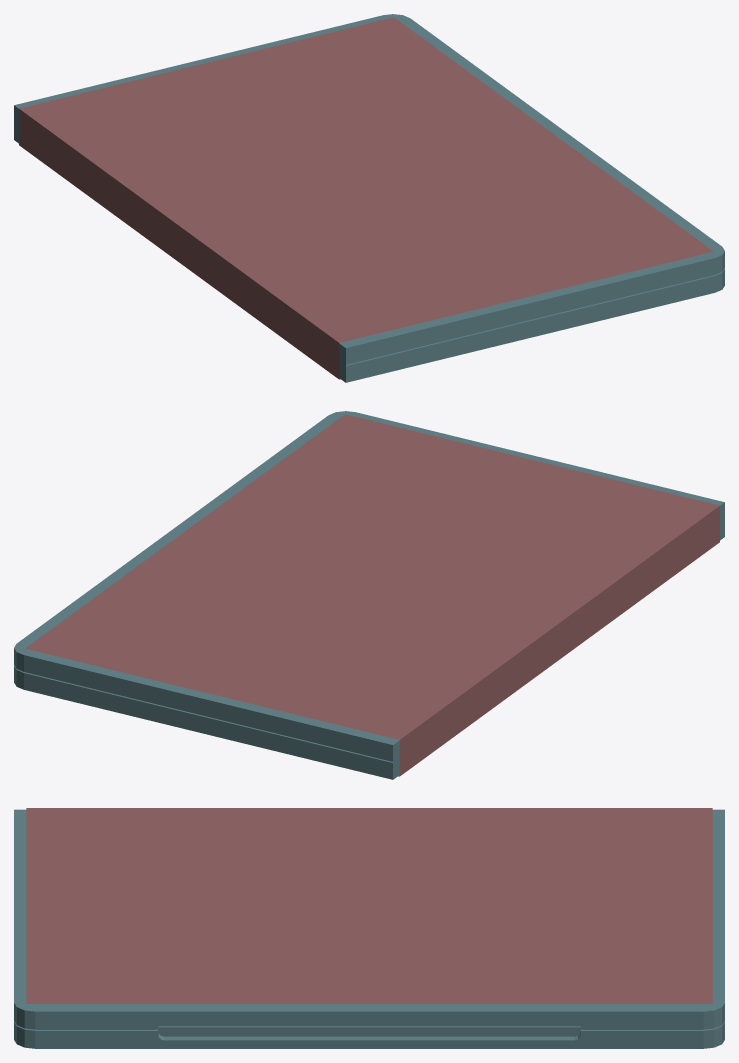
Rendered from GameCase.fbx.
The picture shows the model from 3 angles, top to bottom: view 1: azimuth 30°, elevation 25°; view 2: azimuth 150°, elevation 25°; view 3: azimuth 270°, elevation 25°; orthographic projection. The views are drawn at different scales.
Visible parts, largest first — view 1: GameCase; view 2: GameCase; view 3: GameCase.
Boxes of the visible parts, x1,y1,x2,y2 form: GameCase: [14, 14, 724, 382]; GameCase: [14, 411, 724, 779]; GameCase: [14, 808, 724, 1048].
Size of the model in its own units: 52.26 by 4.73 by 77.58.
